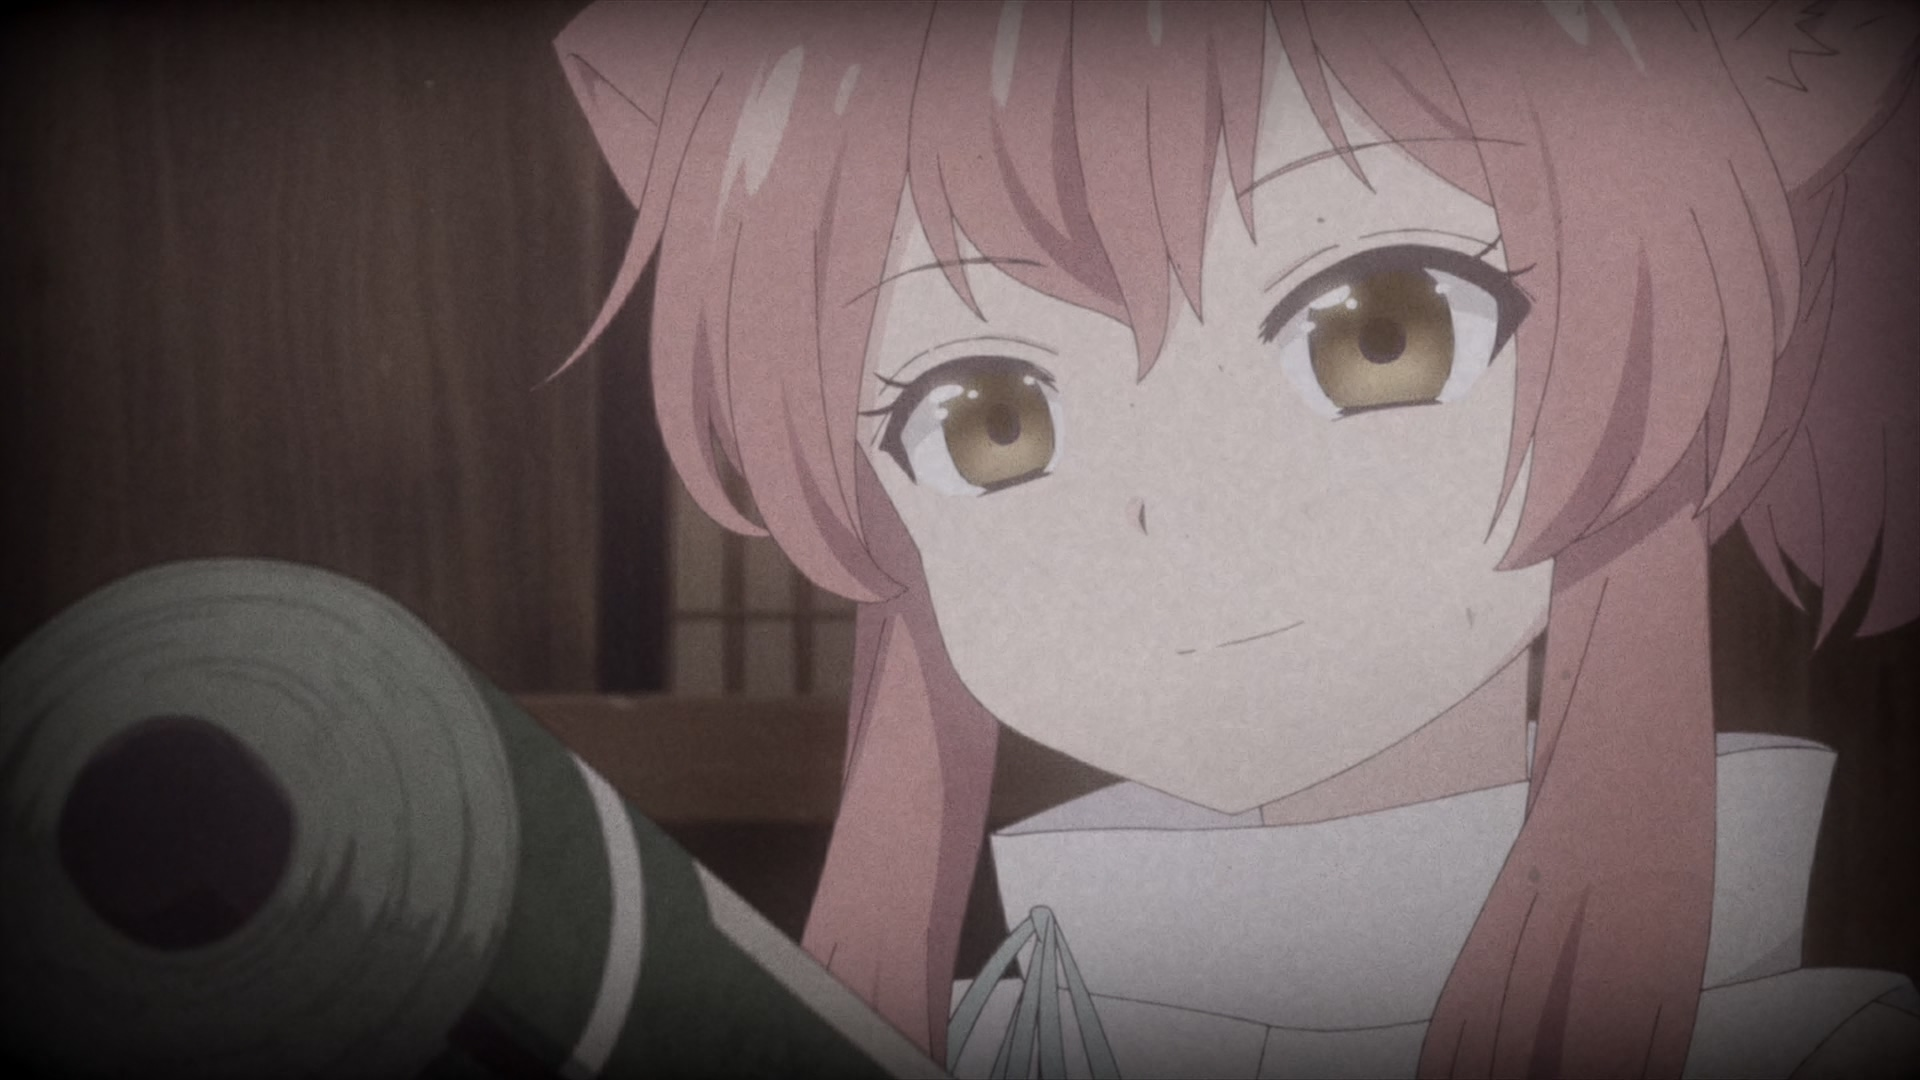椿: (527, 1, 1920, 1080)
